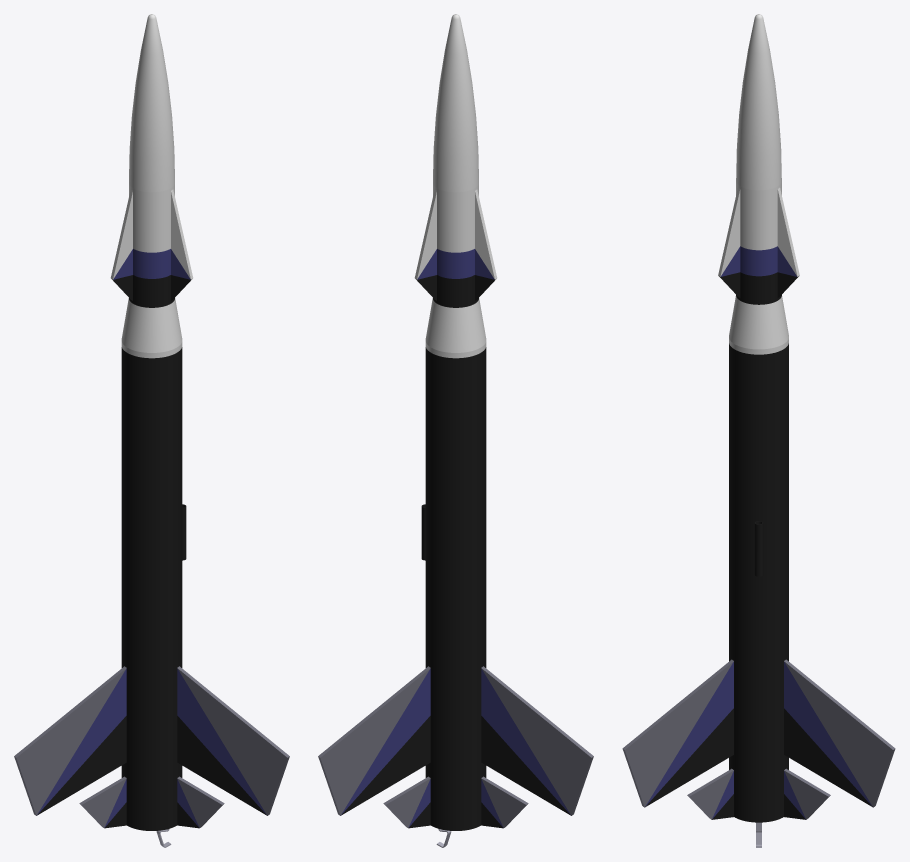
The model's file is rocket.glb.
3 renders of one model, left to right at view 1: azimuth 30°, elevation 25°; view 2: azimuth 150°, elevation 25°; view 3: azimuth 270°, elevation 25°, orthographic.
Parts seen in each view (by area): view 1: Rocket; view 2: Rocket; view 3: Rocket.
Part boxes in pixels (x1,y1,x2,y2): Rocket: [14, 14, 289, 847]; Rocket: [318, 14, 593, 847]; Rocket: [622, 14, 895, 847].
Bounding box in the file's own units: 5.15 × 19.87 × 5.95.
Materials: 1 (1 with a texture image).
